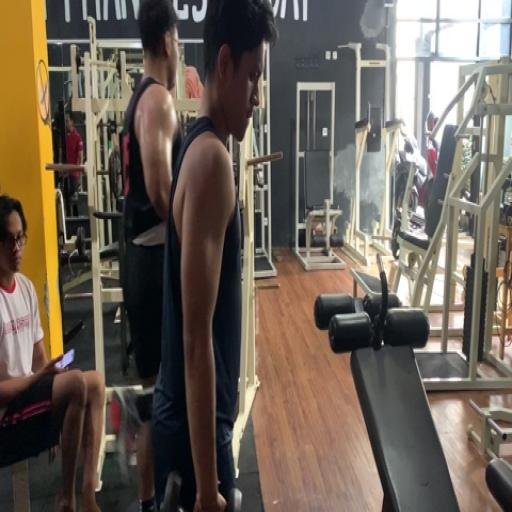exercise: (0, 192, 111, 511)
